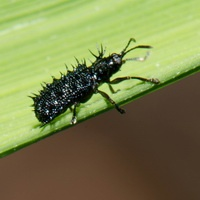insect: (30, 38, 159, 125)
